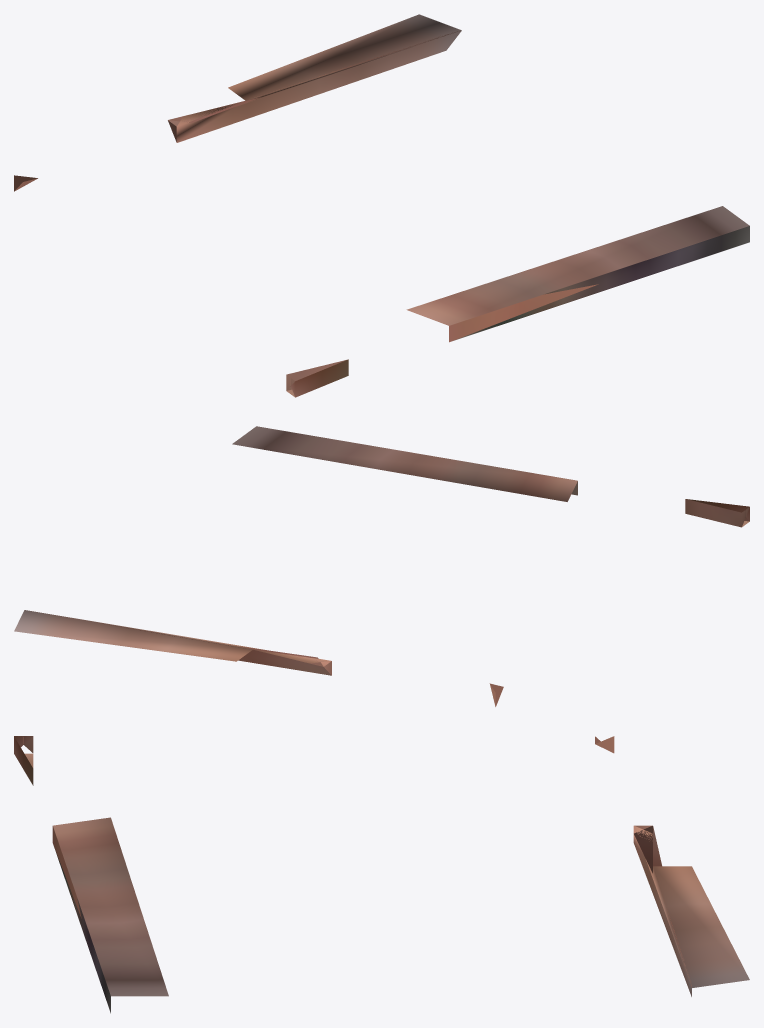
3 views of the same model, one above another, from view 1: azimuth 30°, elevation 25°; view 2: azimuth 150°, elevation 25°; view 3: azimuth 270°, elevation 25° (orthographic). The views are drawn at different scales.
Visible parts, largest first — view 1: 304362727043704272_0; view 2: 304362727043704272_0; view 3: 304362727043704272_0.
Part boxes in pixels (x1,y1,x2,y2): 304362727043704272_0: (14,14,749,397); 304362727043704272_0: (14,426,749,706); 304362727043704272_0: (14,736,749,1013).
Bounding box in the file's own units: 19.64 × 0.6228 × 23.45.
Materials: 1 (1 with a texture image).
